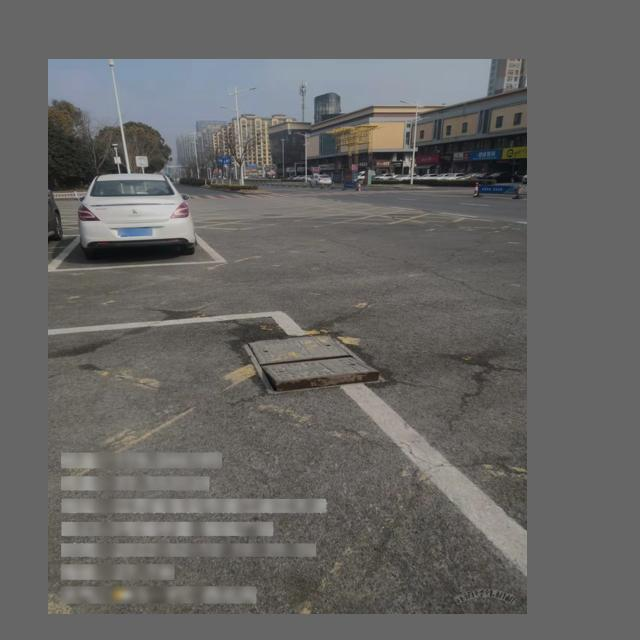uncovered: (244, 334, 385, 396)
